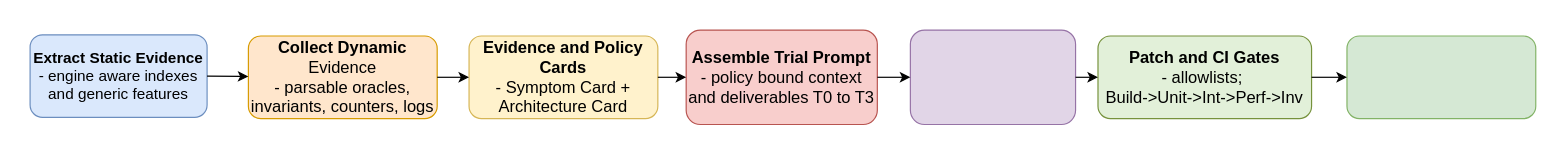
The diagram is 1556 pixels wide and 145 high, and some of its shapes have lost their labels. Here are the shapes that lost their labels. From the top down, the box of each, then its label:
(909, 29, 1076, 124): Propose Patch LLM - unified diff with rationale and test plan
(1346, 35, 1536, 119): Reviewer UI - view evidence; re-run or promote trials
